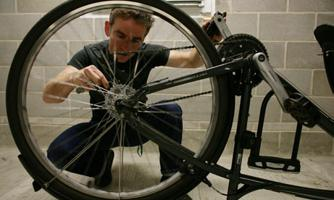person: (42, 2, 228, 189)
